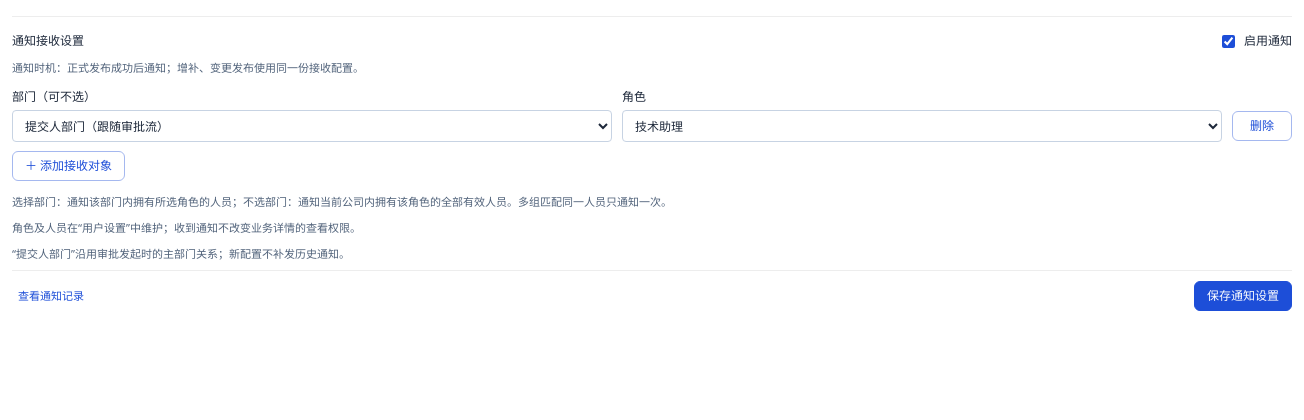
department and role workflow notifications › validates missing roles and preserves form after conflicts
Click the button "＋ 添加接收对象" at (69, 166), box [12,151,125,181]
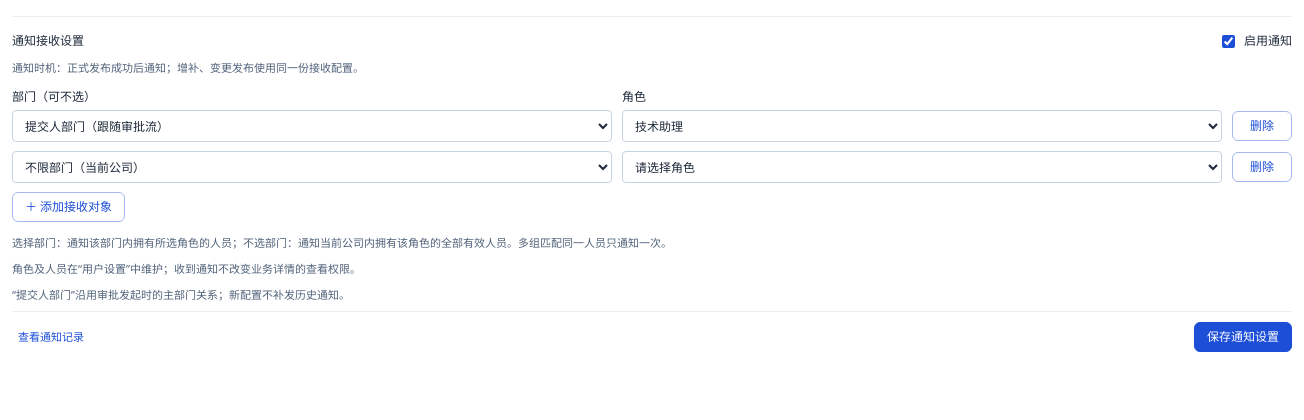
Click the button "保存通知设置" at (1243, 337), box [1194,322,1292,352]
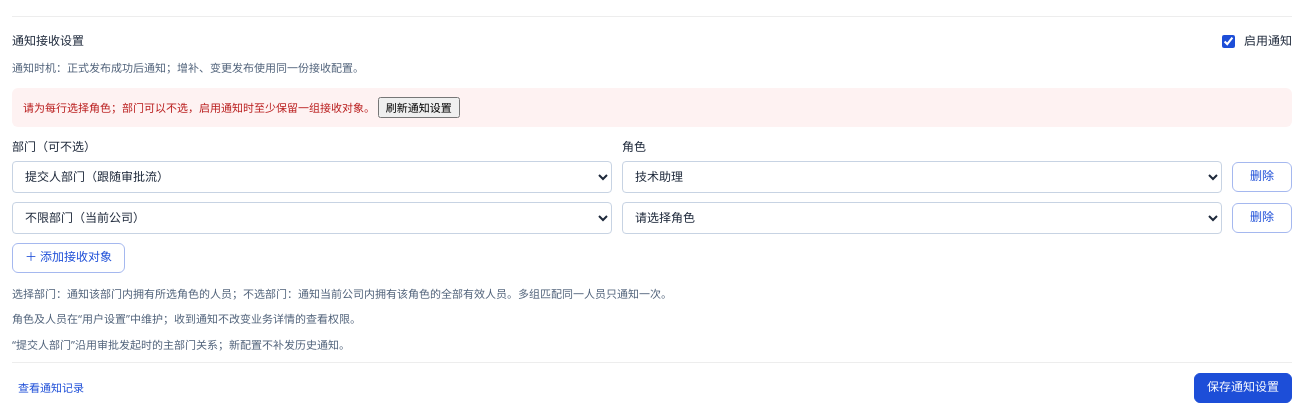
Check: the message "请为每行选择角色；部门可以不选，启用通知时至少保留一组接收对象。 刷新通知设置" is shown, box [12,88,1292,127]
Select "供应链" in the dropdown named "接收对象2角色" at (922, 218), box [622,202,1222,234]
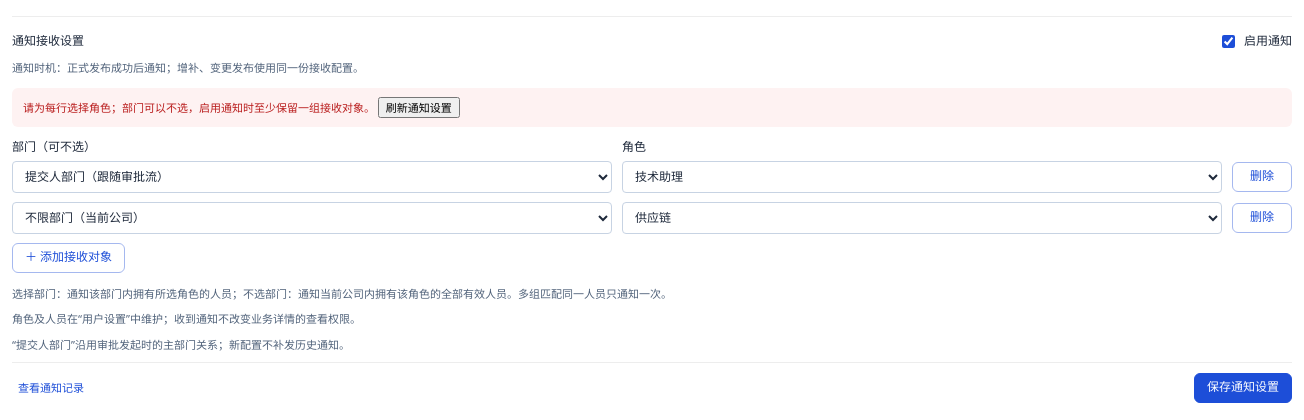
Click the button "保存通知设置" at (1243, 388), box [1194,373,1292,403]
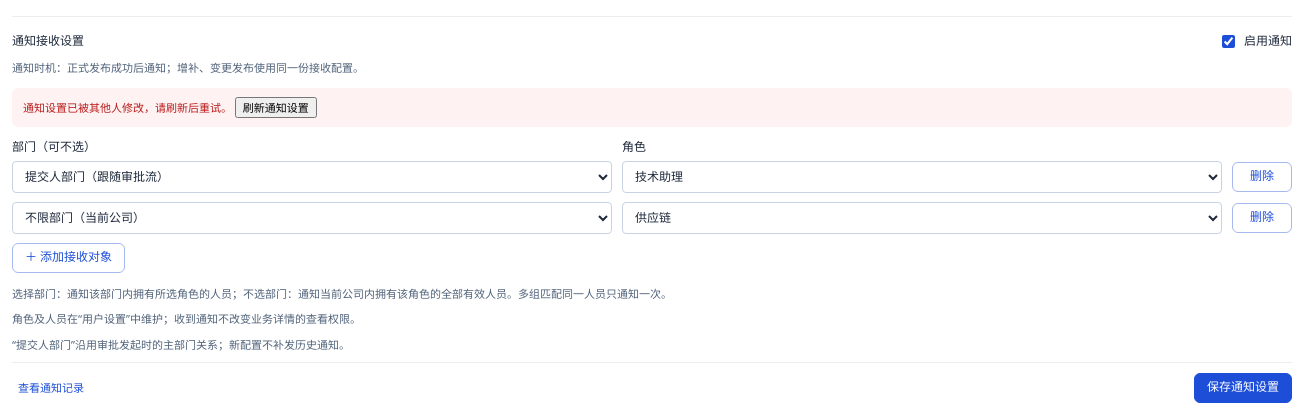
Check: the message "通知设置已被其他人修改，请刷新后重试。 刷新通知设置" is shown, box [12,88,1292,127]
